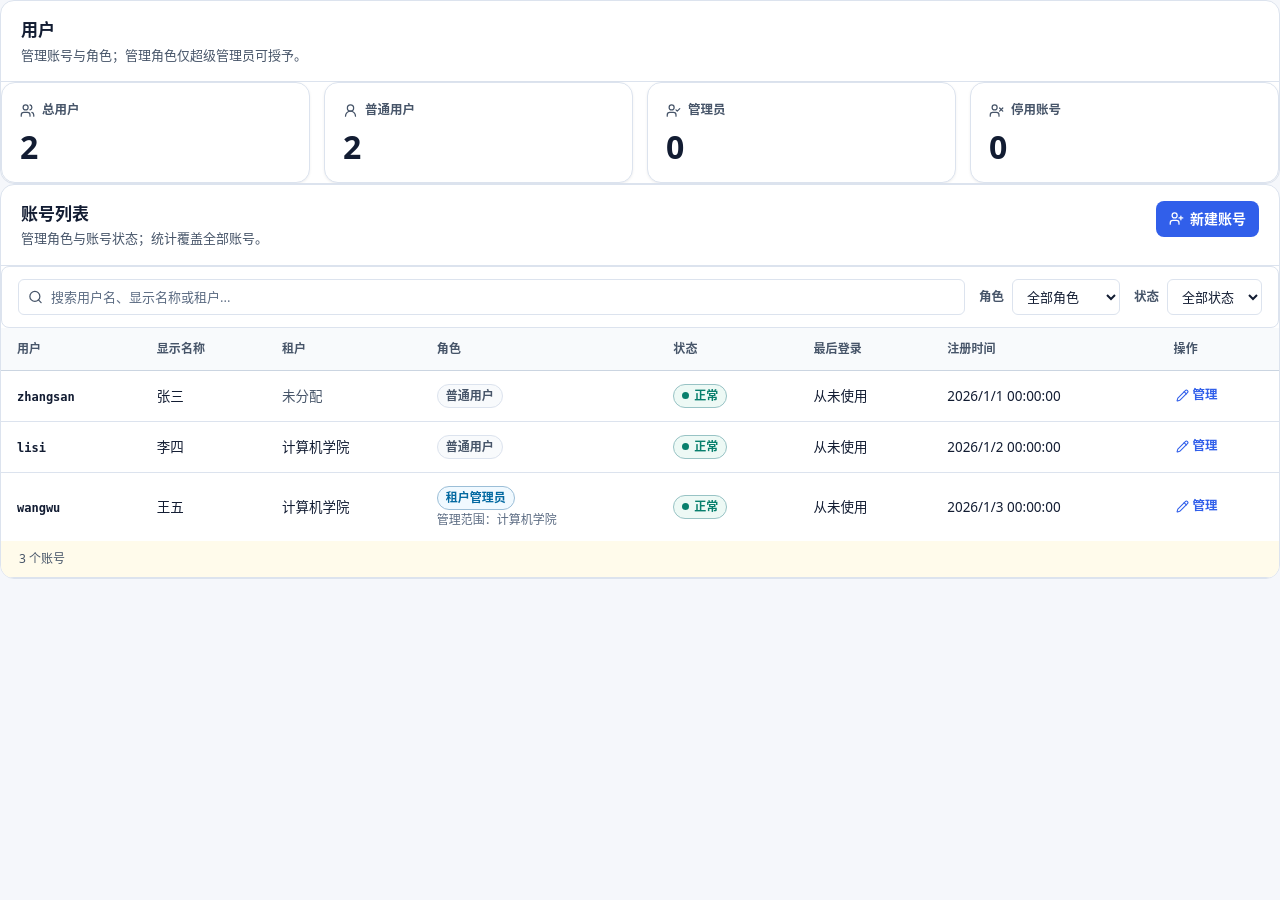
Scenario: UsersPage create account › will not submit until a username and a password are present
This screenshot has width=1280, height=900.
Click the button "新建账号". click: (1208,219)
box: [1156, 201, 1259, 237]
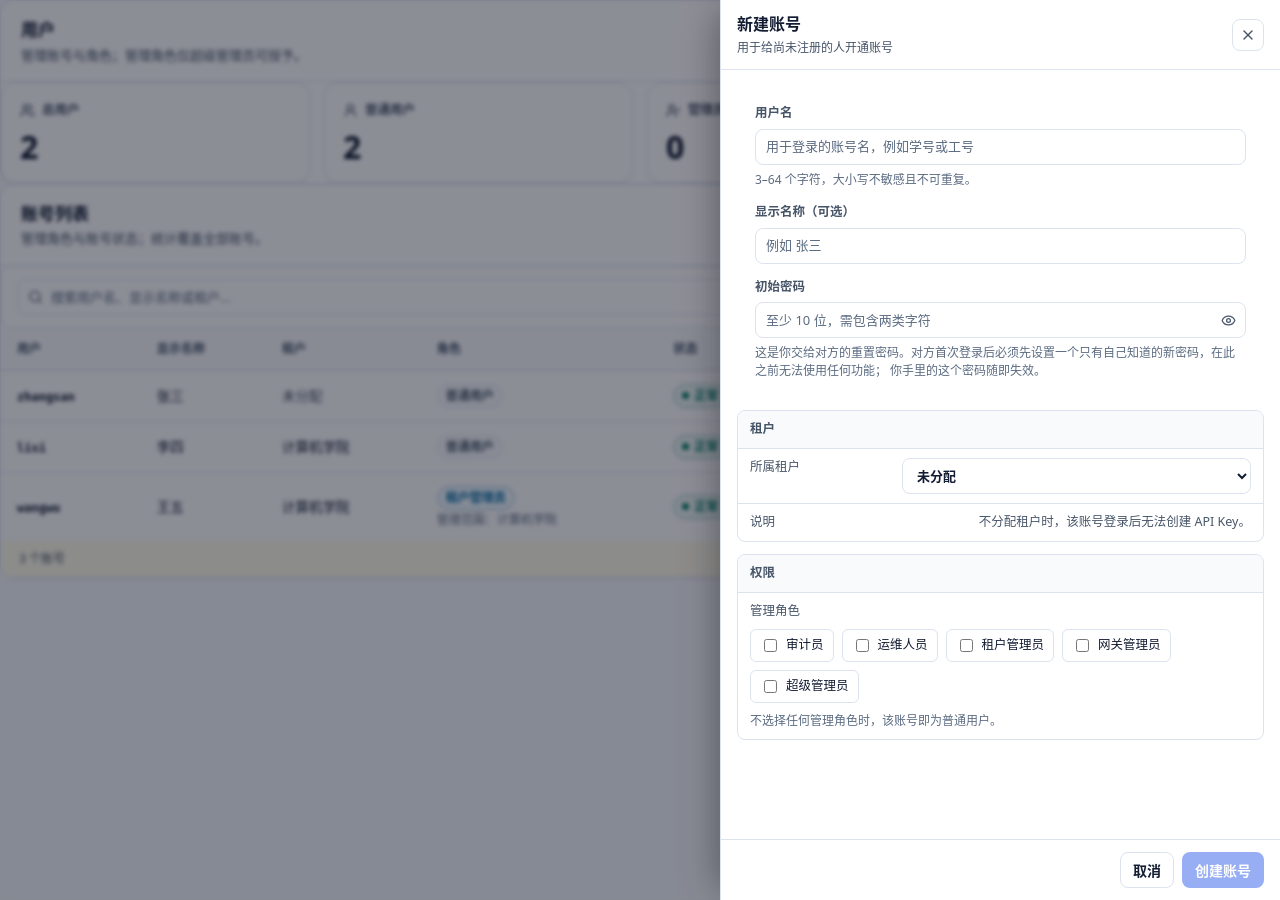
Expected: the button "创建账号" is disabled, [1182, 852, 1264, 888]
Type "wangwu" into the field with placeholder "用于登录的账号名，例如学号或工号". click: (1000,147)
box: [755, 129, 1246, 165]
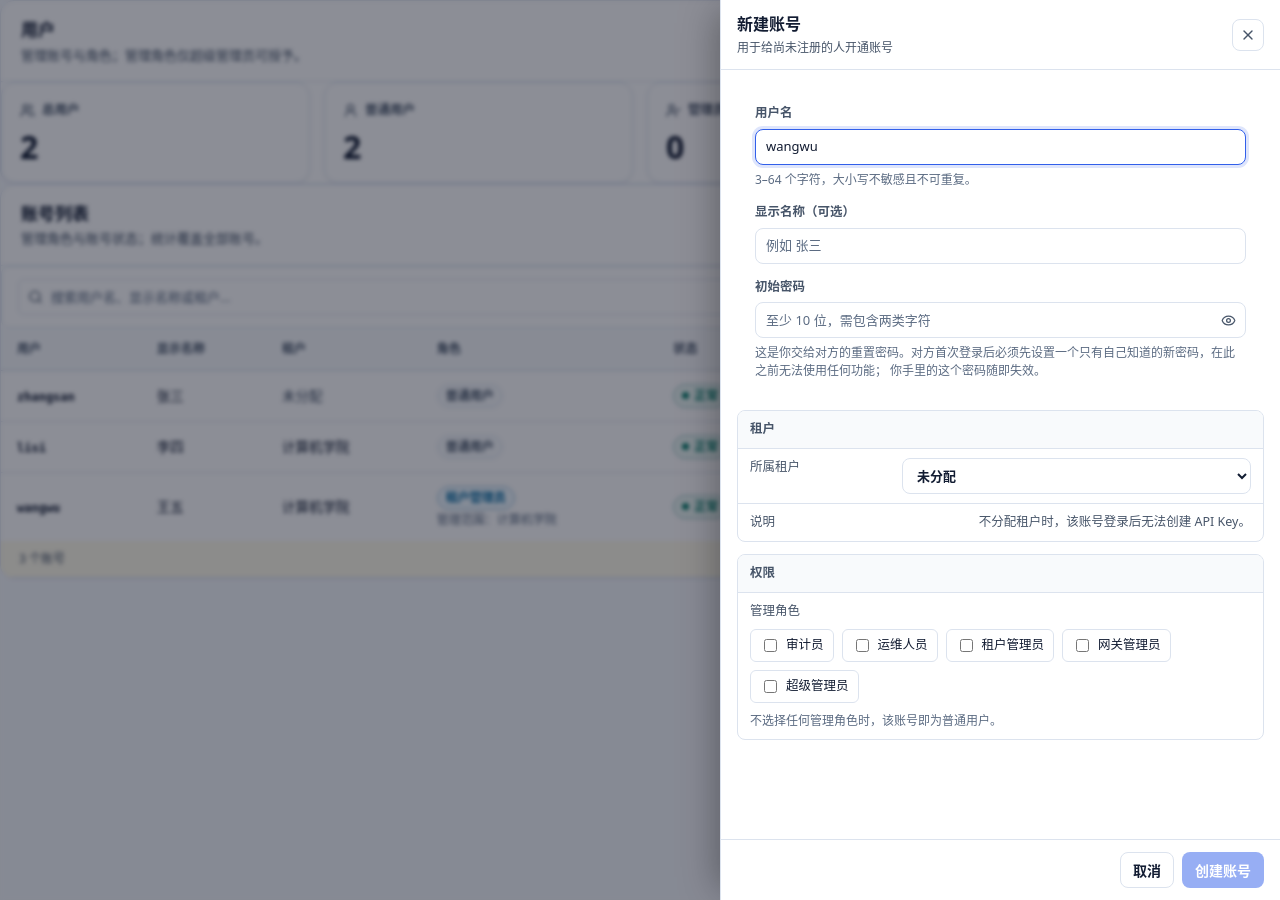
Expected: the button "创建账号" is disabled, [1182, 852, 1264, 888]
Type "Interim#2026New" into the password field with placeholder "至少 10 位，需包含两类字符". click: (1000,320)
box: [755, 302, 1246, 338]
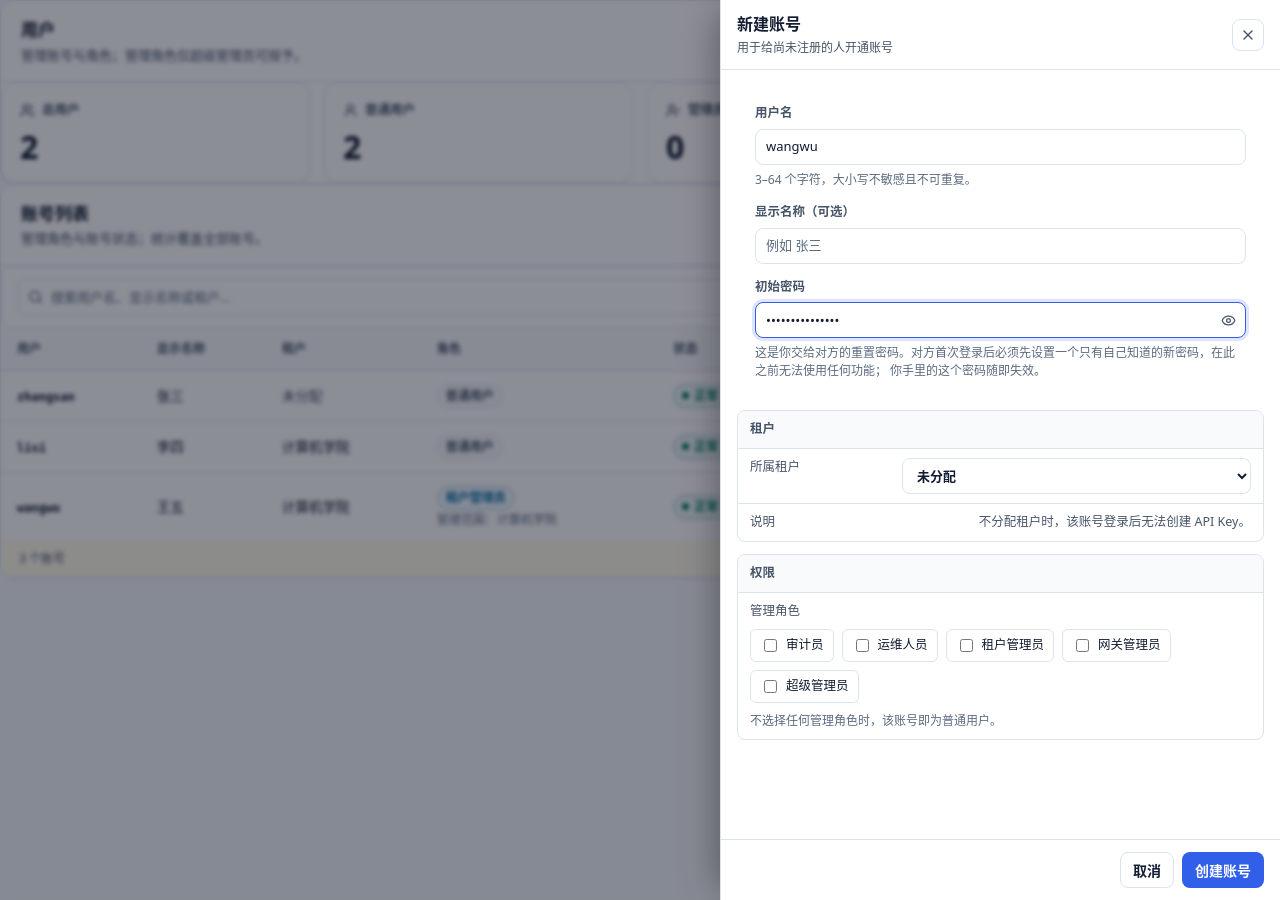
Expected: the button "创建账号" is enabled, [1182, 852, 1264, 888]
